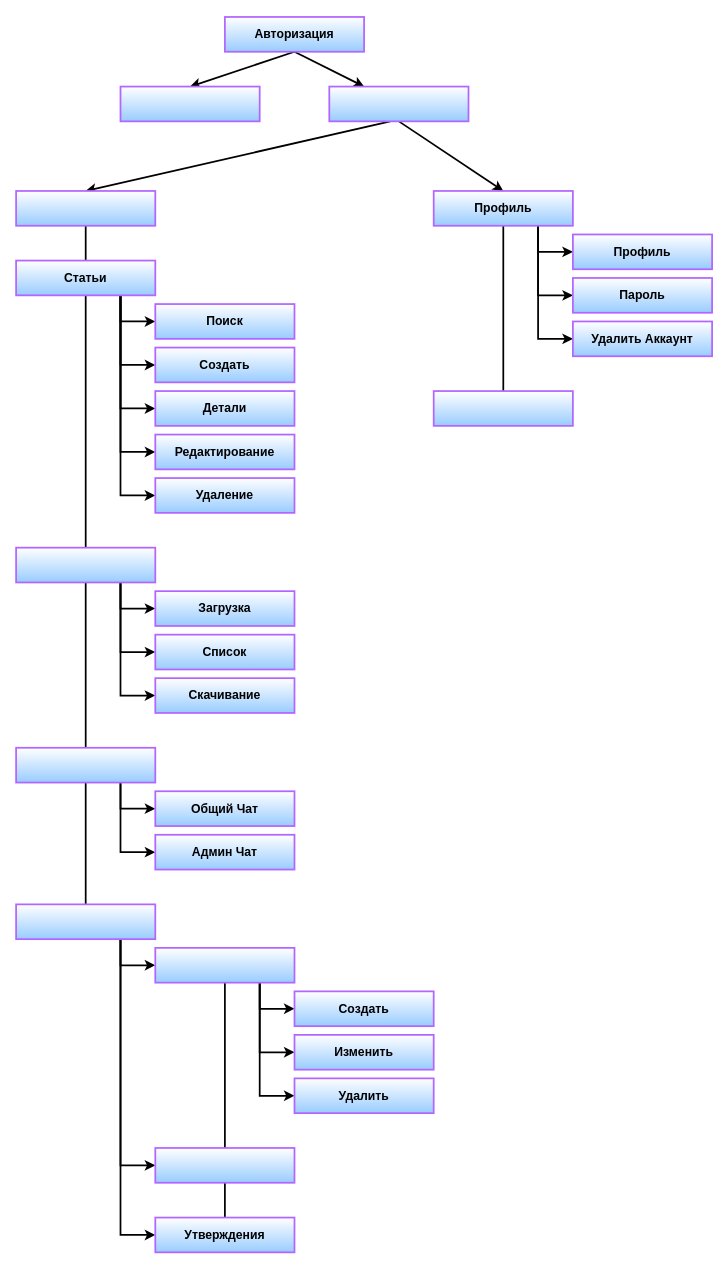
This 727x1269 diagram has some shape labels left out. The box of each missing label's shape, as (x1, y1, x2, y2) in pixels:
Вход: (328, 85, 469, 122)
Выход: (432, 390, 573, 426)
Главная: (15, 190, 156, 226)
Общение: (15, 746, 156, 783)
Пользователи: (154, 1147, 295, 1183)
Регистрация: (119, 85, 260, 122)
Роли: (154, 947, 295, 983)
Управление: (15, 903, 156, 940)
Файлы: (15, 546, 156, 583)
